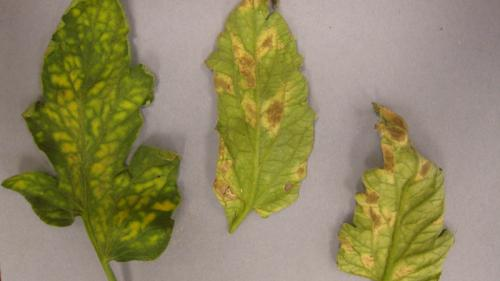Tomato mold leaf: (7, 0, 183, 269), (198, 0, 319, 223), (337, 110, 459, 280)
